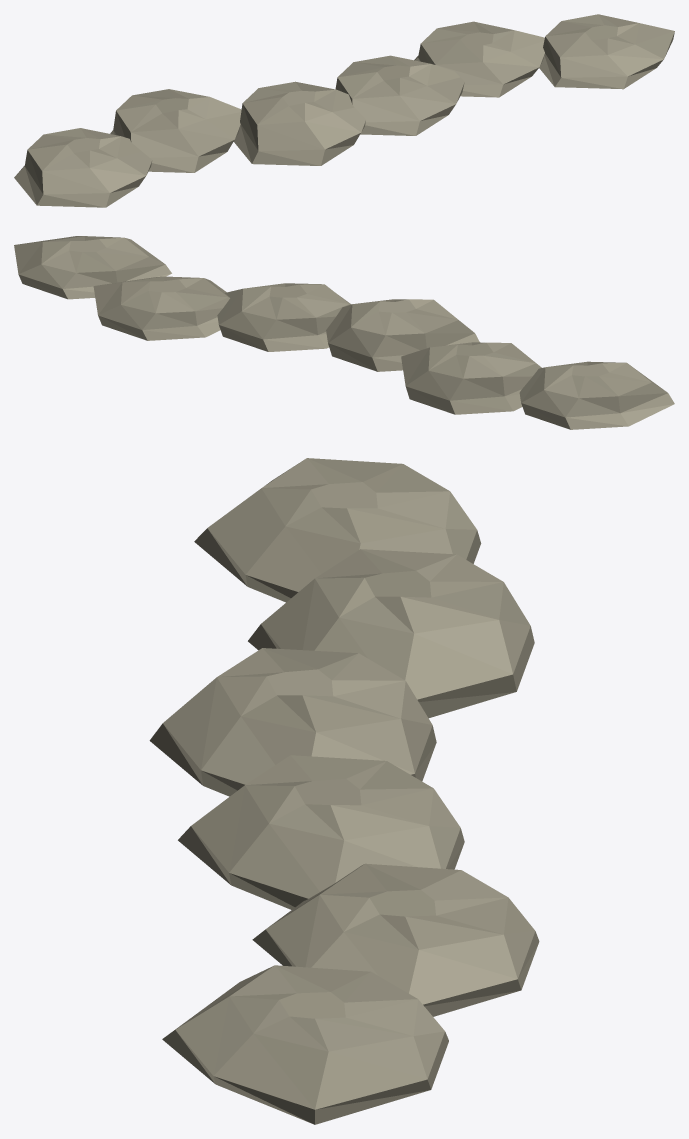
Rendered from stepping-stones.glb.
3 views of the same model, one above another, from view 1: azimuth 30°, elevation 25°; view 2: azimuth 150°, elevation 25°; view 3: azimuth 270°, elevation 25° (orthographic). The views are drawn at different scales.
Parts seen in each view (by area): view 1: stepping-stones; view 2: stepping-stones; view 3: stepping-stones.
Boxes of the visible parts, left/top/right/bottom form: stepping-stones: left=14, top=14, right=674, bottom=207; stepping-stones: left=14, top=236, right=674, bottom=429; stepping-stones: left=149, top=458, right=539, bottom=1124.
Bounding box in the file's own units: 4.84 × 0.2755 × 1.26.
